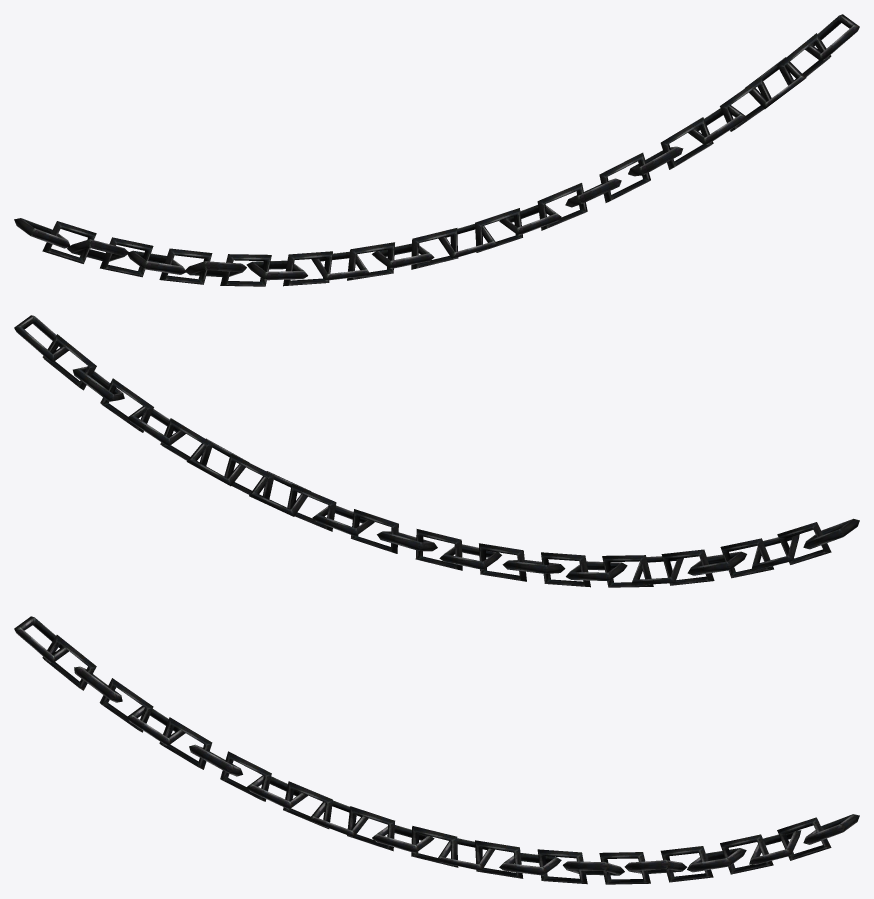
The model's file is Dream_Chain1.DAE.
The picture shows the model from 3 angles, top to bottom: view 1: azimuth 30°, elevation 25°; view 2: azimuth 150°, elevation 25°; view 3: azimuth 330°, elevation 25°; orthographic projection.
Parts seen in each view (by area): view 1: Plane001; view 2: Plane001; view 3: Plane001.
Part boxes in pixels (left/top/right/bottom): Plane001: left=14, top=14, right=859, bottom=286; Plane001: left=14, top=315, right=859, bottom=587; Plane001: left=14, top=616, right=859, bottom=884.
Size of the model in its own units: 0.3201 by 0.053 by 0.0114.
